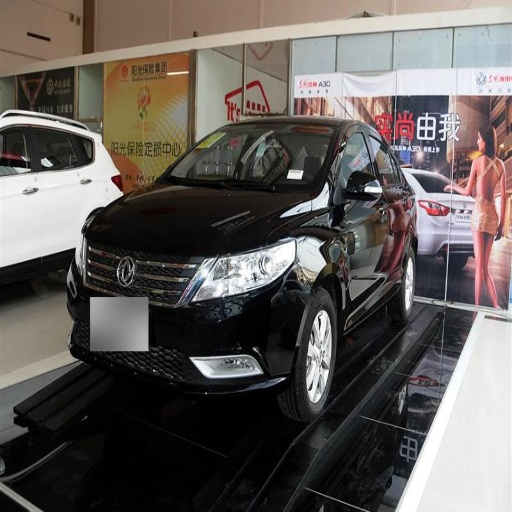front_bumper: (69, 243, 309, 397)
front_glass: (166, 123, 336, 196)
front_left_door: (336, 124, 386, 325), (2, 123, 37, 241)
